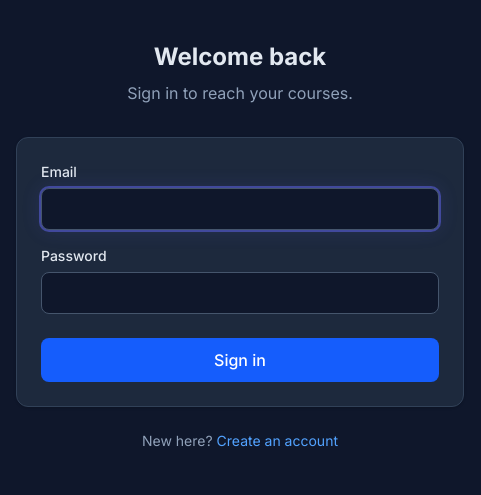
Test: Login page › renders a crafted error message as plain text, not markup
Type "ada@example.com" into the field labelled "Email" at (240, 209), box [41,188,439,230]
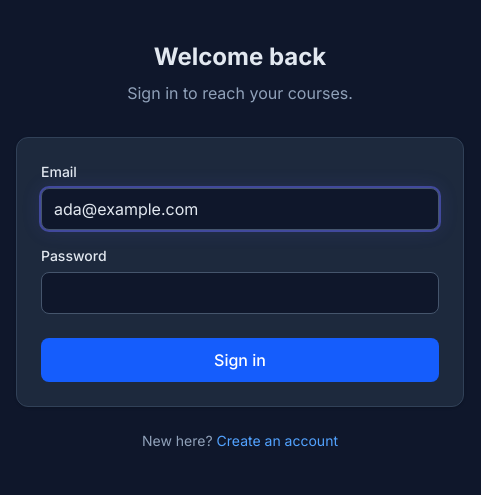
Type "correct horse battery staple" into the password field labelled "Password" at (240, 293), box [41,272,439,314]
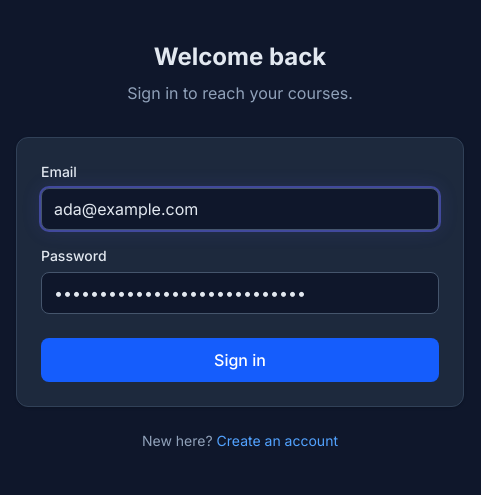
Click the button "Sign in" at (240, 360), box [41,338,439,382]
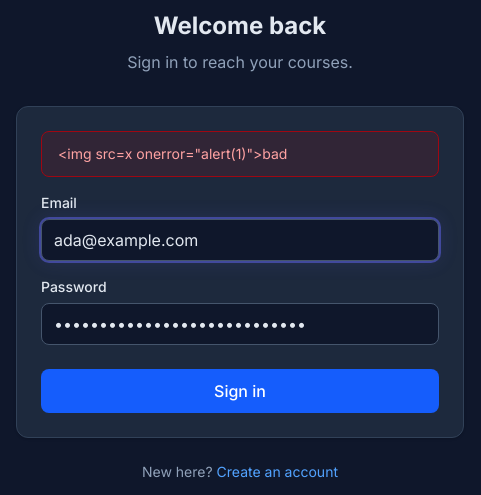
expect the message reads "<img src=x onerror=\"alert(1)\">bad": met, box [58,145,287,162]
